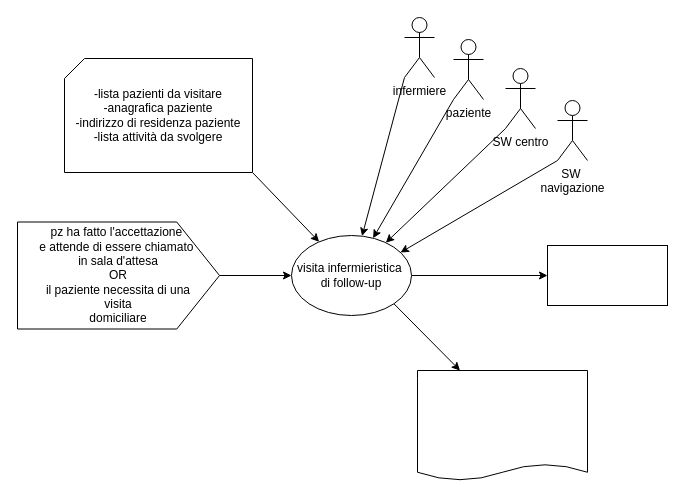
The diagram is 685 pixels wide and 498 high, and some of its shapes have lost their labels. Each missing label, with the box of its shape:
-lista pazienti da visitare -dati visita: (416, 370, 588, 480)
visita terminata e dati salvati nel sistema: (546, 244, 668, 306)
